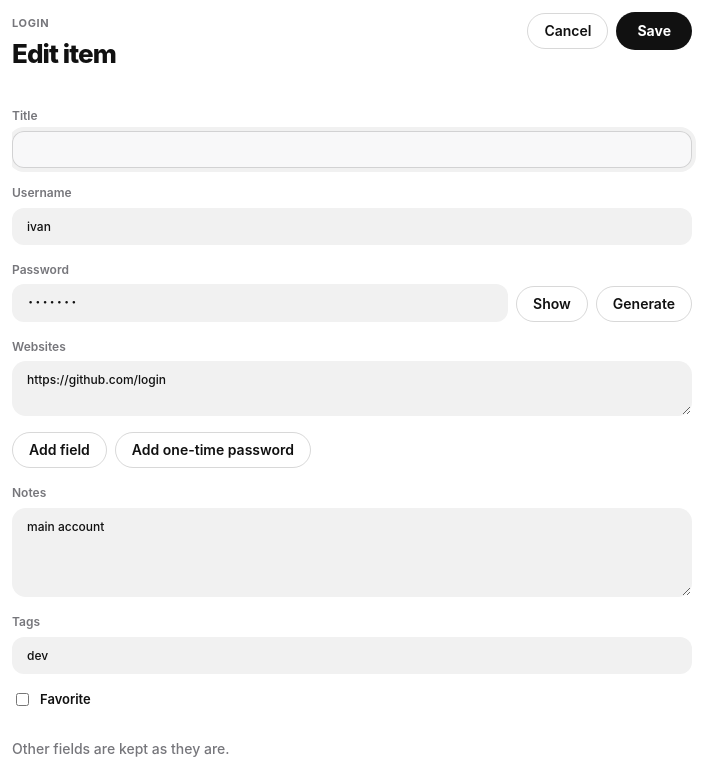
Scenario: shows a save error
The image size is (713, 780).
Step 1. Click the button "Save" → click(654, 31), box [616, 12, 692, 50]
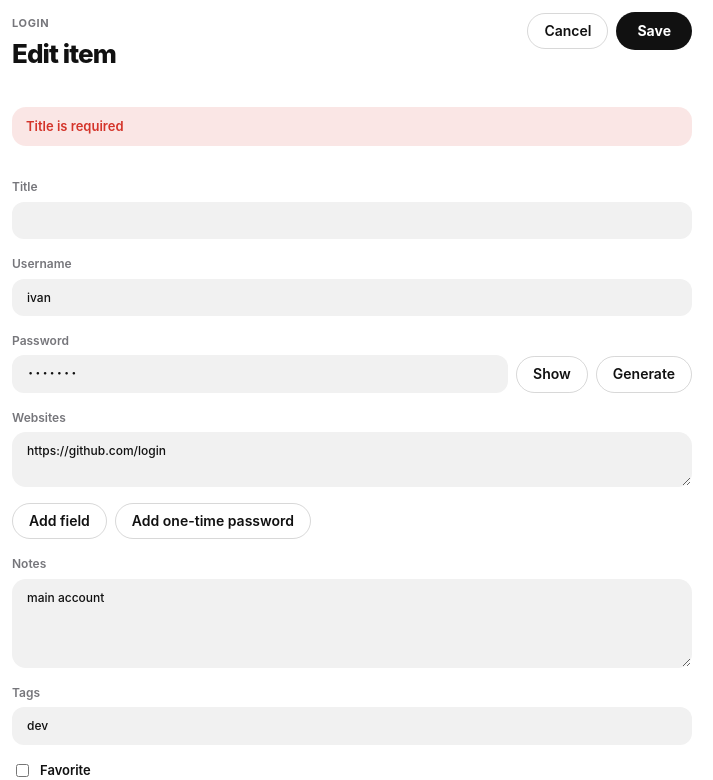
Now the message reads "Title is required", box [26, 118, 124, 134]
